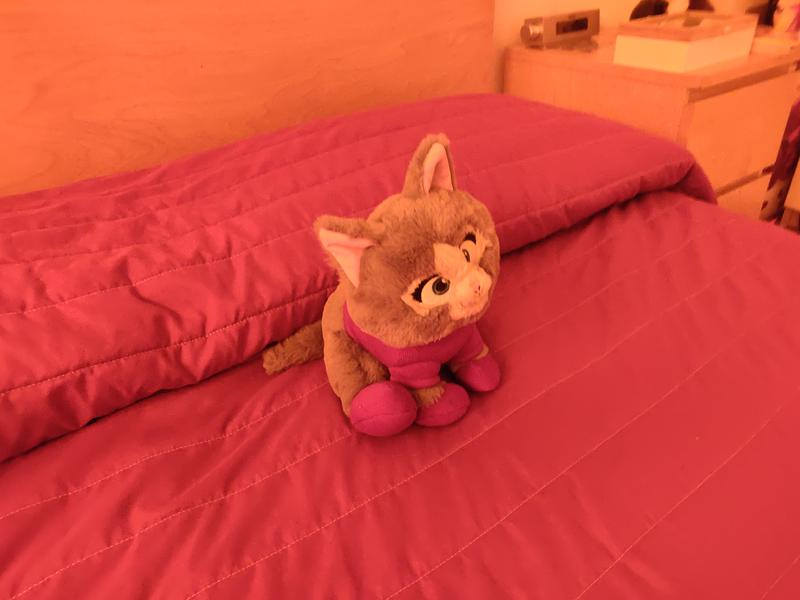kitten: (265, 118, 552, 466)
